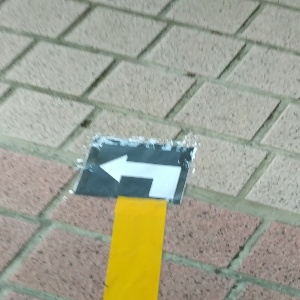left: (74, 139, 193, 203)
